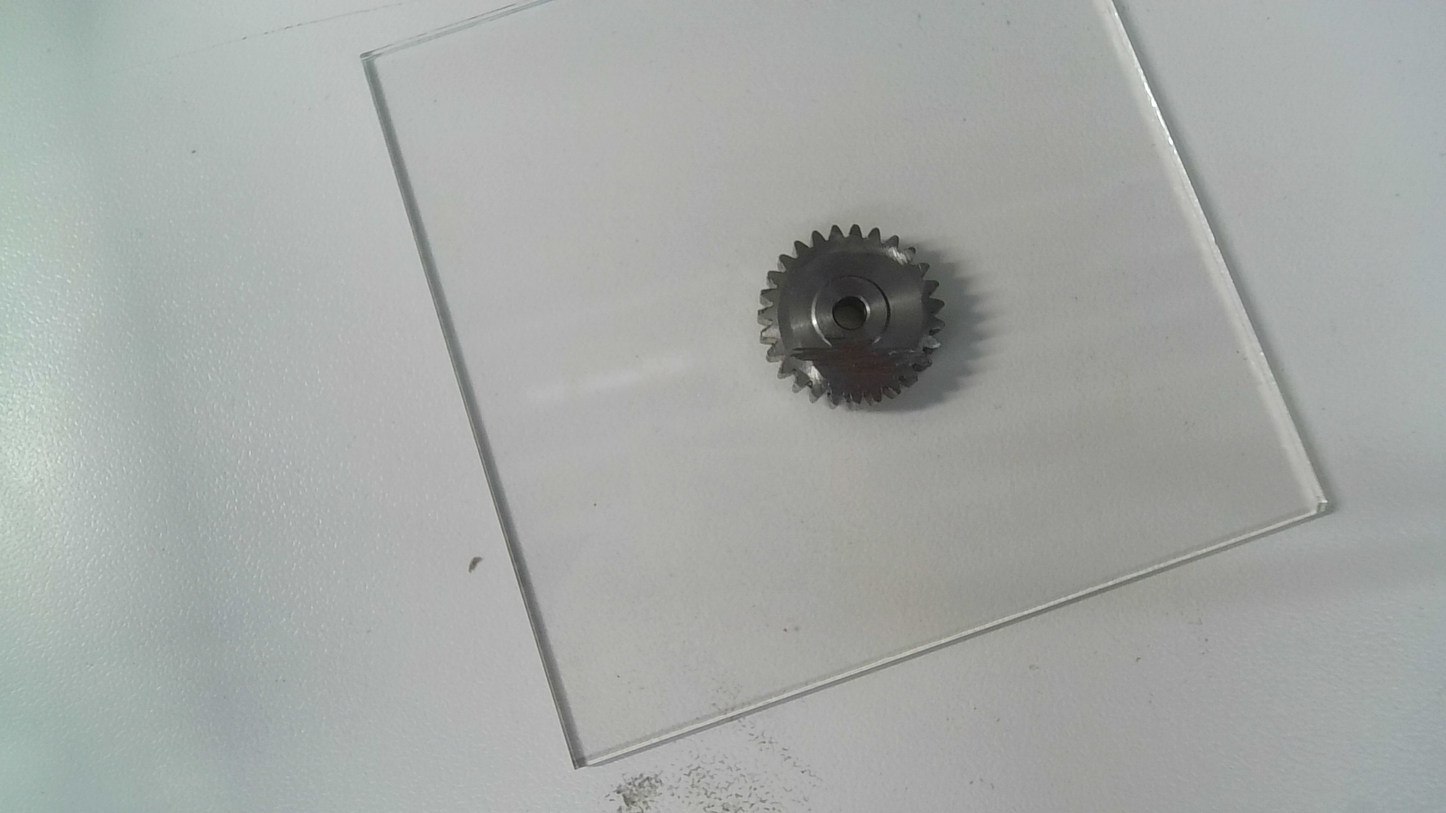gear: (752, 221, 948, 412)
